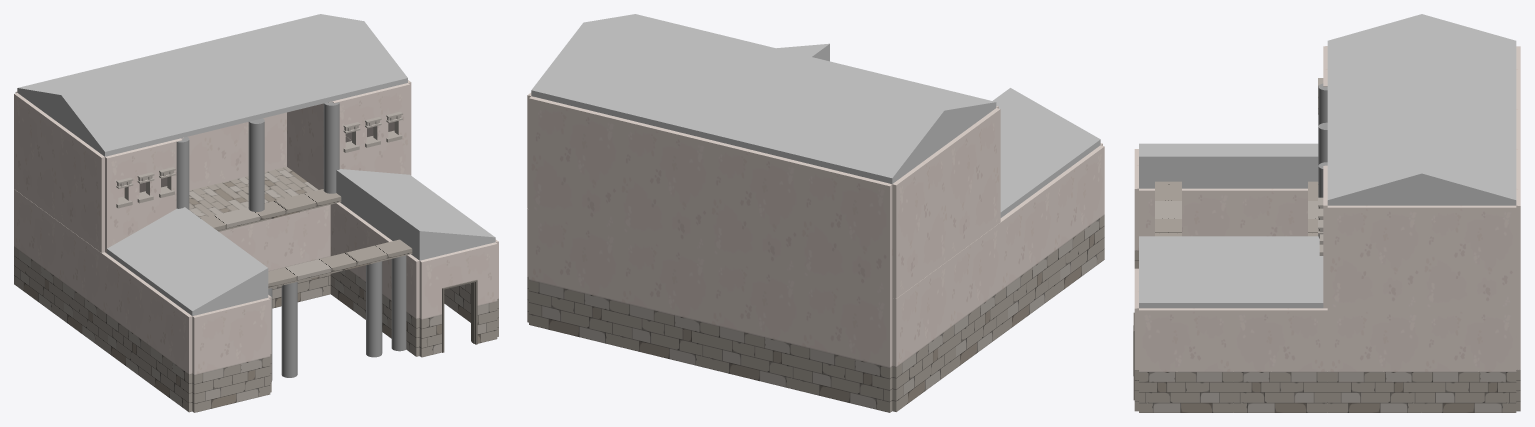
The model's file is SM_Bld_Temp_Building_01.fbx.
3 renders of one model, left to right at view 1: azimuth 30°, elevation 25°; view 2: azimuth 150°, elevation 25°; view 3: azimuth 270°, elevation 25°, orthographic. The views are drawn at different scales.
Parts seen in each view (by area): view 1: SM_Bld_Temp_Building_01; view 2: SM_Bld_Temp_Building_01; view 3: SM_Bld_Temp_Building_01.
Part boxes in pixels (bbox=[...]): SM_Bld_Temp_Building_01: bbox=[14, 14, 498, 412]; SM_Bld_Temp_Building_01: bbox=[527, 14, 1104, 412]; SM_Bld_Temp_Building_01: bbox=[1133, 14, 1520, 412].
Size of the model in its own units: 1022 by 695 by 1026.
